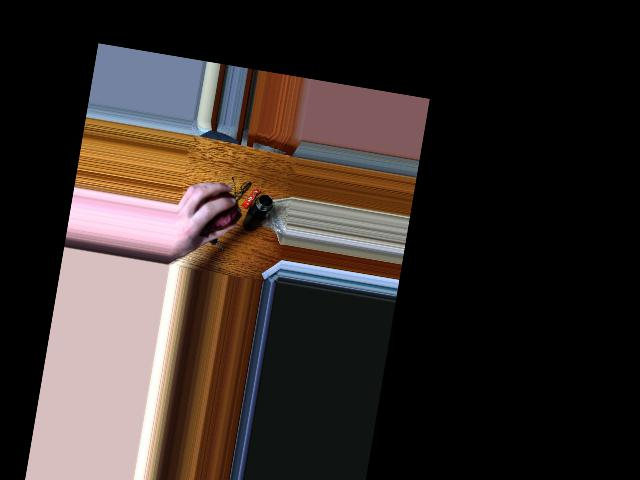onion: (201, 187, 241, 230)
